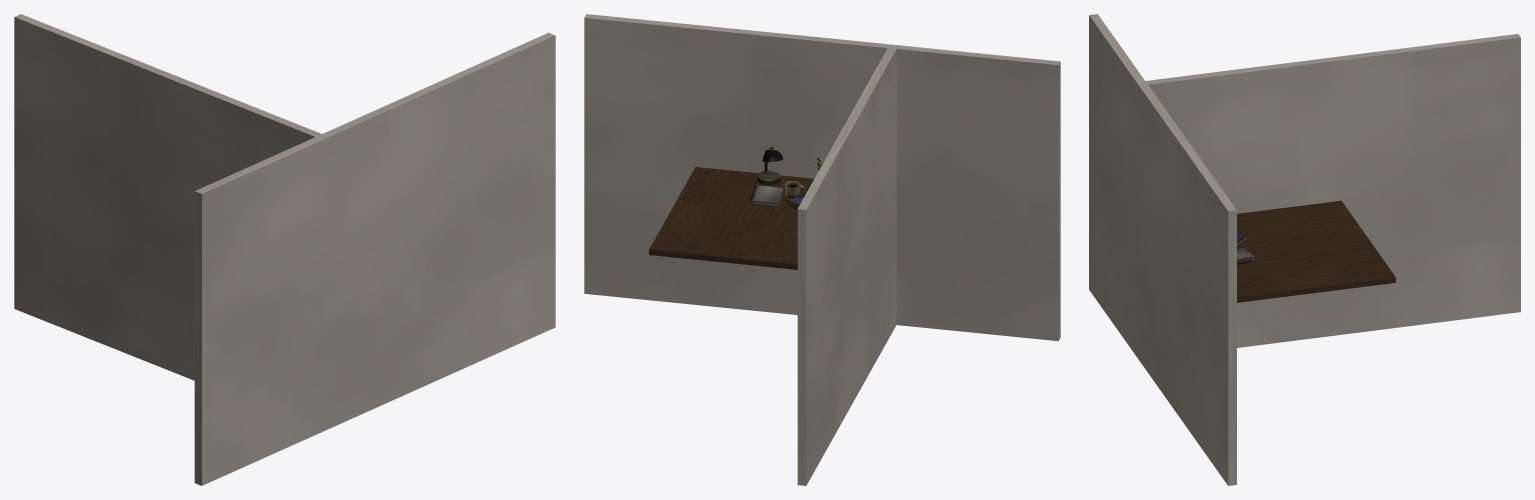
Rendered from ours.glb.
3 views of the same model, side by side, from view 1: azimuth 30°, elevation 25°; view 2: azimuth 150°, elevation 25°; view 3: azimuth 270°, elevation 25° (orthographic). The views are drawn at different scales.
Visible parts, largest first — view 1: wall_0, wall_1; view 2: wall_0, wall_1, desk_0, obj_notebook_0, obj_lamp_0; view 3: wall_1, wall_0, desk_0.
Boxes of the visible parts, <box> form: wall_0: <box>194,32,555,485</box>; wall_1: <box>14,14,321,380</box>; wall_0: <box>584,14,1060,341</box>; wall_1: <box>797,46,897,485</box>; desk_0: <box>649,167,813,269</box>; obj_notebook_0: <box>750,185,783,206</box>; obj_lamp_0: <box>757,146,783,184</box>; wall_1: <box>1141,34,1520,347</box>; wall_0: <box>1089,14,1236,485</box>; desk_0: <box>1237,200,1395,302</box>.
Bounding box in the file's own units: 3.08 × 2 × 2.85.
10 materials, 10 textured.
